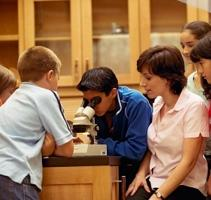person: (77, 68, 152, 162)
